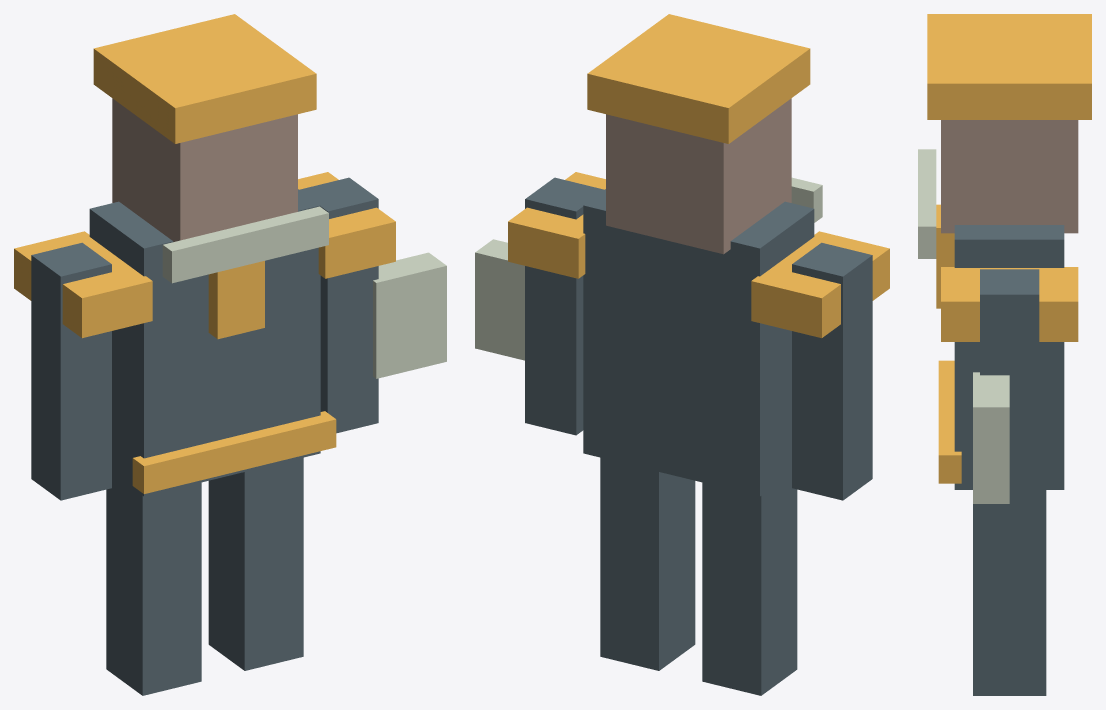
The model's file is 03_noor_chromabell_tactician_near_observation.glb.
3 renders of one model, left to right at view 1: azimuth 30°, elevation 25°; view 2: azimuth 150°, elevation 25°; view 3: azimuth 270°, elevation 25°, orthographic.
Visible parts, largest first — view 1: Noor Chromabell, Tactician near Observation; view 2: Noor Chromabell, Tactician near Observation; view 3: Noor Chromabell, Tactician near Observation.
Part boxes in pixels (left/top/right/bottom): Noor Chromabell, Tactician near Observation: left=14, top=14, right=446, bottom=695; Noor Chromabell, Tactician near Observation: left=475, top=14, right=889, bottom=695; Noor Chromabell, Tactician near Observation: left=918, top=14, right=1091, bottom=695.
Bounding box in the file's own units: 0.935 × 1.41 × 0.3644.
